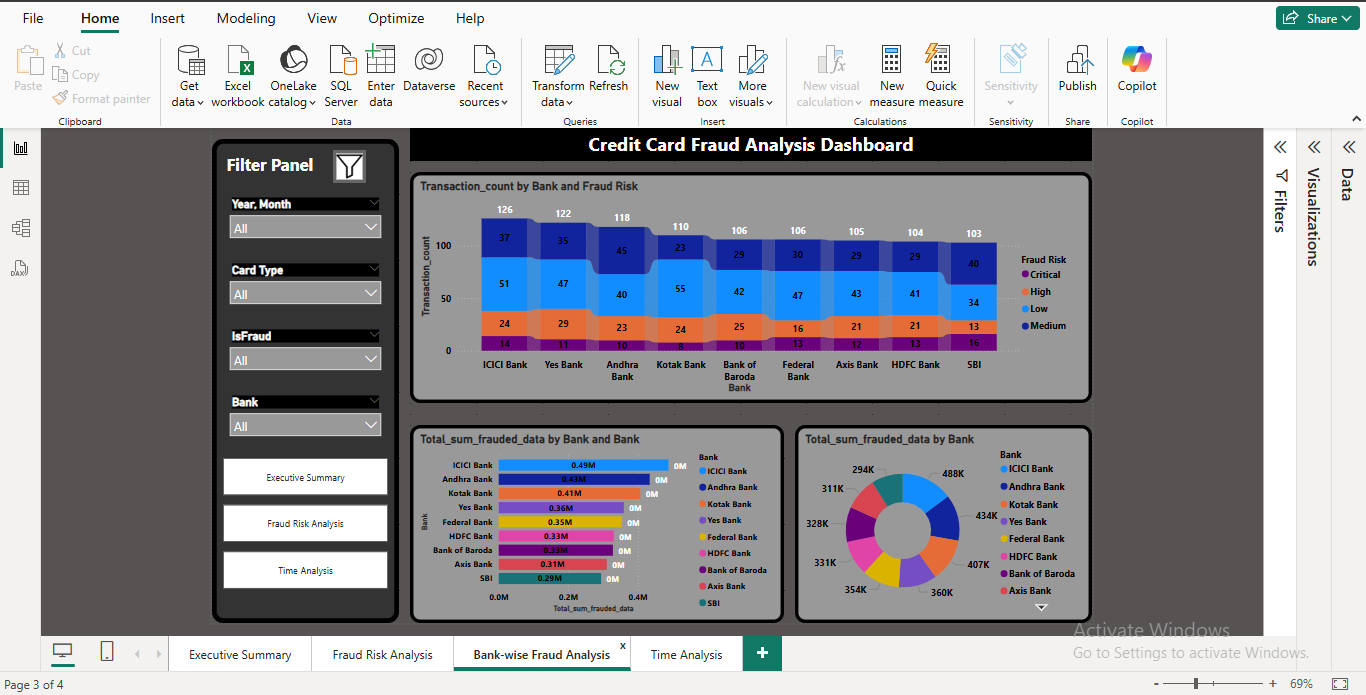

What the dashboard file says about the page in this screenshot:
{"tool":"powerbi","page":{"name":"Bank-wise Fraud Analysis","canvas":[1280,720],"ordinal":2},"visuals":[{"type":"shape","box":[0,16,272,704],"z":0},{"type":"textbox","box":[288,0,992,48],"z":1000},{"type":"textbox","box":[16,32,208,48],"z":2000},{"type":"image","box":[176,32,48,48],"z":3000},{"type":"pageNavigator","box":[16,480,240,192],"z":4000},{"type":"slicer","fields":{"Values":["Credit Card Fraud Risk Analysis.Card Type"]},"box":[16,192,240,80],"z":5000},{"type":"slicer","fields":{"Values":["Calender.Date.Variation.Date Hierarchy.Year","Calender.Date.Variation.Date Hierarchy.Month"]},"box":[16,96,240,80],"z":6000},{"type":"slicer","fields":{"Values":["Credit Card Fraud Risk Analysis.IsFraud"]},"box":[16,288,240,80],"z":7000},{"type":"slicer","fields":{"Values":["Credit Card Fraud Risk Analysis.Bank"]},"box":[16,384,240,80],"z":8000},{"type":"barChart","fields":{"Category":["Credit Card Fraud Risk Analysis.Bank"],"Y":["Credit Card Fraud Risk Analysis.Total_sum_frauded_data"],"Series":["Credit Card Fraud Risk Analysis.Bank"]},"box":[288,432,544,288],"z":9000},{"type":"columnChart","fields":{"Category":["Credit Card Fraud Risk Analysis.Bank"],"Y":["Credit Card Fraud Risk Analysis.Transaction_count"],"Series":["Credit Card Fraud Risk Analysis.Fraud Risk"]},"box":[288,64,992,336],"z":10000},{"type":"donutChart","fields":{"Category":["Credit Card Fraud Risk Analysis.Bank"],"Y":["Credit Card Fraud Risk Analysis.Total_sum_frauded_data"]},"box":[848,432,432,288],"z":11000}]}

Visuals, with their boxes on the page's 1280x720 design canvas (x1, y1, x2, y2). These are canvas units, not pixel positions in the 1366x695 screenshot, which may show the page scaled, cropped or inside an application window:
shape: l=0, t=16, r=272, b=720
textbox: l=288, t=0, r=1280, b=48
textbox: l=16, t=32, r=224, b=80
image: l=176, t=32, r=224, b=80
pageNavigator: l=16, t=480, r=256, b=672
slicer - Credit Card Fraud Risk Analysis.Card Type: l=16, t=192, r=256, b=272
slicer - Calender.Date.Variation.Date Hierarchy.Year x Calender.Date.Variation.Date Hierarchy.Month: l=16, t=96, r=256, b=176
slicer - Credit Card Fraud Risk Analysis.IsFraud: l=16, t=288, r=256, b=368
slicer - Credit Card Fraud Risk Analysis.Bank: l=16, t=384, r=256, b=464
barChart - Credit Card Fraud Risk Analysis.Bank x Credit Card Fraud Risk Analysis.Total_sum_frauded_data: l=288, t=432, r=832, b=720
columnChart - Credit Card Fraud Risk Analysis.Bank x Credit Card Fraud Risk Analysis.Transaction_count: l=288, t=64, r=1280, b=400
donutChart - Credit Card Fraud Risk Analysis.Bank x Credit Card Fraud Risk Analysis.Total_sum_frauded_data: l=848, t=432, r=1280, b=720
